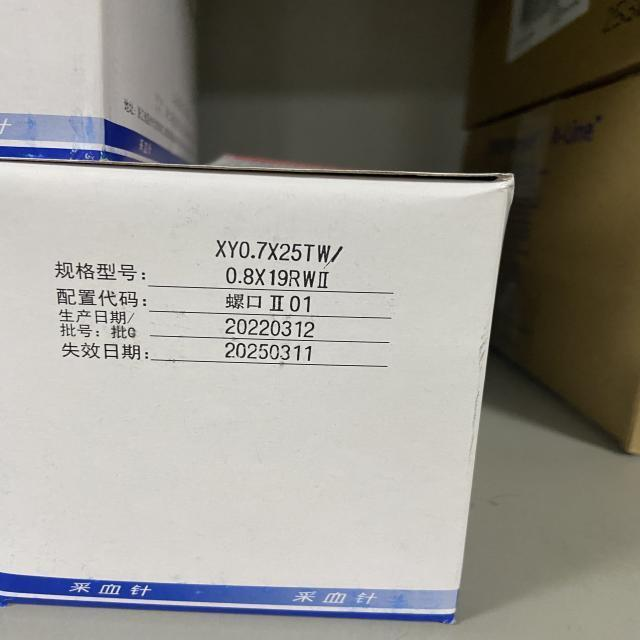box: (0, 165, 513, 623), (461, 67, 640, 450), (0, 0, 203, 166), (465, 0, 640, 129)
